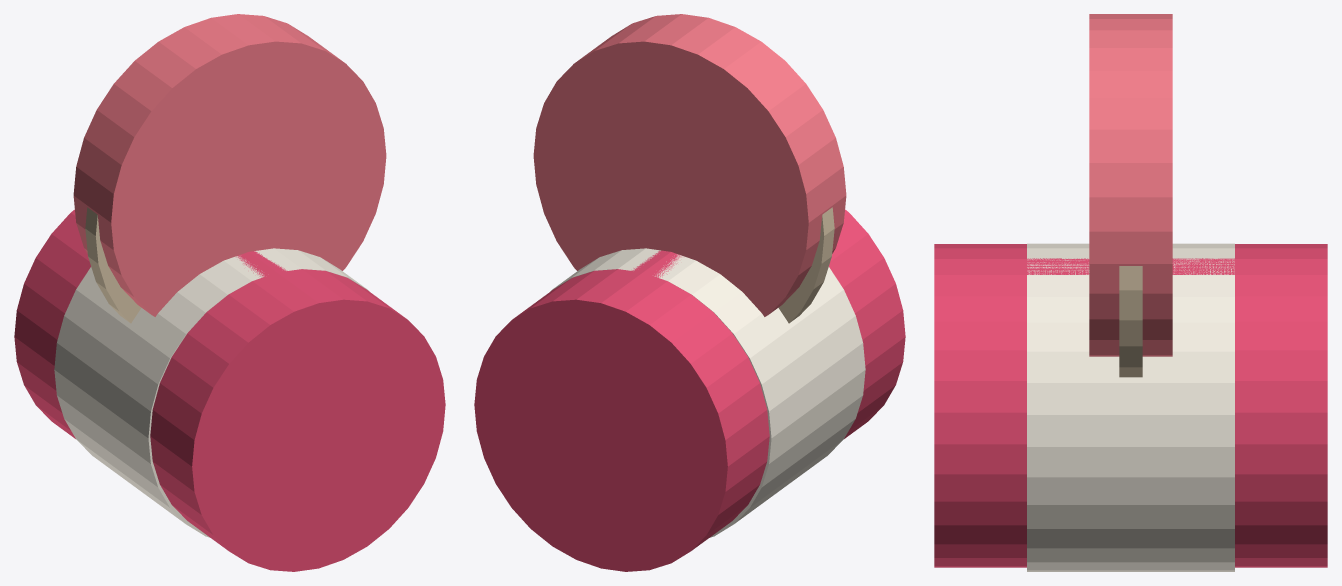
File: jam-jar.glb
The picture shows the model from 3 angles, left to right: view 1: azimuth 30°, elevation 25°; view 2: azimuth 150°, elevation 25°; view 3: azimuth 270°, elevation 25°; orthographic projection. The views are drawn at different scales.
Visible parts, largest first — view 1: jam_body, jam_lid, jam_label, jam_twine; view 2: jam_body, jam_lid, jam_label, jam_twine; view 3: jam_body, jam_label, jam_lid, jam_twine.
Part boxes in pixels (x1=…): jam_body: x1=14, y1=209, x2=445, y2=571; jam_lid: x1=73, y1=14, x2=386, y2=316; jam_label: x1=54, y1=248, x2=369, y2=537; jam_twine: x1=85, y1=207, x2=141, y2=323; jam_body: x1=474, y1=209, x2=905, y2=571; jam_lid: x1=533, y1=14, x2=846, y2=316; jam_label: x1=550, y1=248, x2=865, y2=537; jam_twine: x1=778, y1=207, x2=834, y2=323; jam_body: x1=934, y1=244, x2=1327, y2=567; jam_label: x1=1027, y1=243, x2=1234, y2=571; jam_lid: x1=1089, y1=14, x2=1172, y2=356; jam_twine: x1=1119, y1=266, x2=1142, y2=377.
Bounding box in the file's own units: 0.077 × 0.1255 × 0.085.
